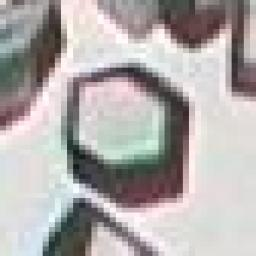crystals: (58, 62, 197, 215)
